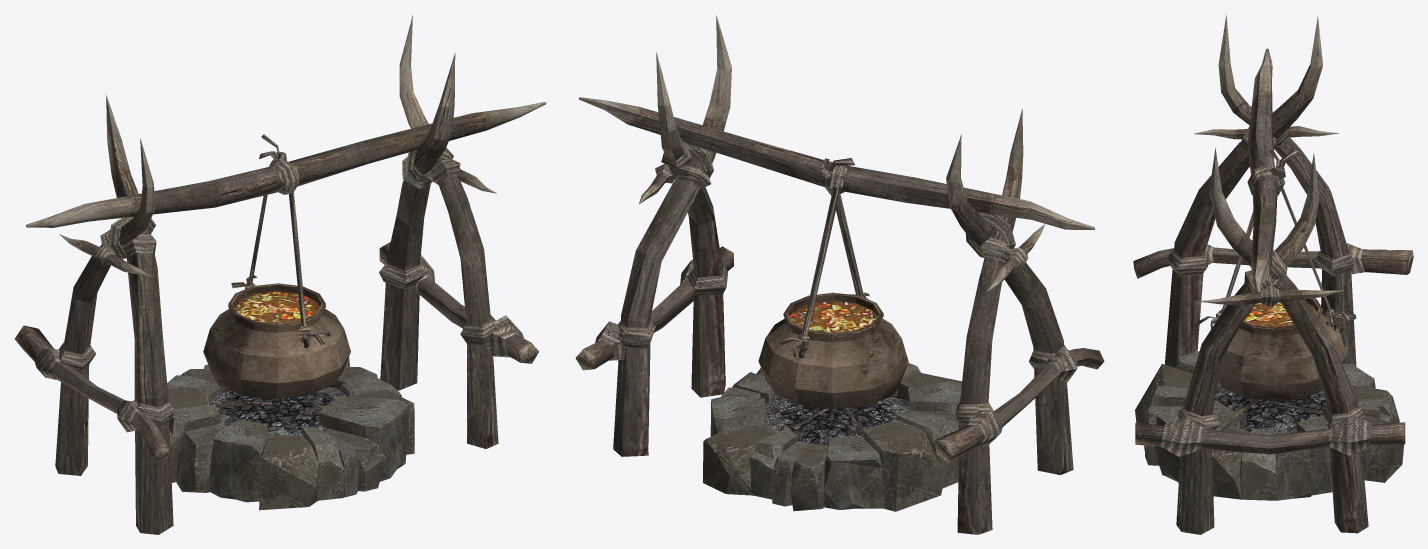
File: bg_anh_mirrorv_dp01_sm_old.FBX
The picture shows the model from 3 angles, left to right: view 1: azimuth 30°, elevation 25°; view 2: azimuth 150°, elevation 25°; view 3: azimuth 270°, elevation 25°; orthographic projection. The views are drawn at different scales.
Visible parts, largest first — view 1: bg_anh_mirrorv_dp01_sm_old; view 2: bg_anh_mirrorv_dp01_sm_old; view 3: bg_anh_mirrorv_dp01_sm_old.
Part boxes in pixels (x1,y1,x2,y2): bg_anh_mirrorv_dp01_sm_old: (14, 15, 546, 534); bg_anh_mirrorv_dp01_sm_old: (575, 15, 1104, 534); bg_anh_mirrorv_dp01_sm_old: (1133, 14, 1413, 534).
Size of the model in its own units: 312 by 224 by 152.
